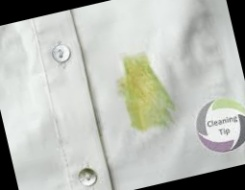earth: (116, 51, 177, 136)
